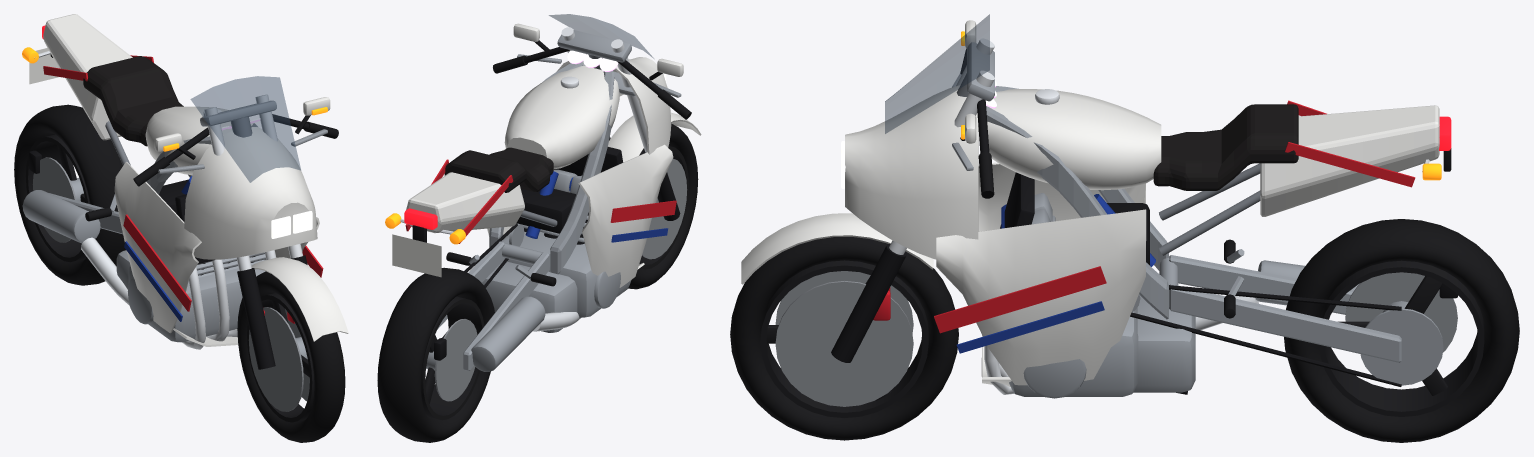
Rendered from neon-blade-900r.glb.
The picture shows the model from 3 angles, left to right: view 1: azimuth 30°, elevation 25°; view 2: azimuth 150°, elevation 25°; view 3: azimuth 270°, elevation 25°; orthographic projection. The views are drawn at different scales.
Parts seen in each view (by area): view 1: Bodywork, FrontForkMesh, Tire_R, Tire_F, Exhaust, Rim_F, Seat, Engine, Rim_R, FuelTank, Frame, Lights (+2 smaller); view 2: Bodywork, Tire_R, Engine, FuelTank, FrontForkMesh, Rim_R, Frame, SwingarmMesh, Exhaust, Seat, Rim_F, Tire_F (+2 smaller); view 3: Bodywork, Tire_R, Rim_F, SwingarmMesh, Tire_F, FuelTank, Engine, Rim_R, FrontForkMesh, Seat, Frame, Exhaust (+1 smaller).
Part boxes in pixels (bbox=[...]): Bodywork: bbox=[34, 14, 330, 346]; FrontForkMesh: bbox=[133, 94, 348, 369]; Tire_R: bbox=[14, 104, 125, 285]; Tire_F: bbox=[237, 271, 345, 442]; Exhaust: bbox=[22, 190, 276, 349]; Rim_F: bbox=[247, 292, 314, 422]; Seat: bbox=[83, 56, 183, 146]; Engine: bbox=[116, 179, 265, 342]; Rim_R: bbox=[25, 134, 89, 262]; FuelTank: bbox=[145, 106, 253, 175]; Frame: bbox=[85, 117, 257, 221]; Lights: bbox=[22, 25, 327, 238]; Bodywork: bbox=[400, 14, 683, 287]; Tire_R: bbox=[377, 267, 494, 442]; Engine: bbox=[482, 147, 631, 332]; FuelTank: bbox=[504, 65, 619, 169]; FrontForkMesh: bbox=[493, 27, 701, 220]; Rim_R: bbox=[421, 296, 484, 420]; Frame: bbox=[446, 54, 614, 286]; SwingarmMesh: bbox=[434, 223, 550, 370]; Exhaust: bbox=[471, 296, 580, 371]; Seat: bbox=[444, 147, 553, 192]; Rim_F: bbox=[639, 146, 688, 269]; Tire_F: bbox=[628, 123, 698, 289]; Bodywork: bbox=[845, 14, 1451, 386]; Tire_R: bbox=[1284, 219, 1519, 442]; Rim_F: bbox=[760, 260, 928, 417]; SwingarmMesh: bbox=[1130, 255, 1458, 386]; Tire_F: bbox=[730, 237, 958, 440]; FuelTank: bbox=[987, 89, 1161, 190]; Engine: bbox=[1000, 172, 1195, 398]; Rim_R: bbox=[1319, 260, 1484, 416]; FrontForkMesh: bbox=[741, 38, 994, 362]; Seat: bbox=[1153, 104, 1298, 190]; Frame: bbox=[956, 73, 1260, 394]; Exhaust: bbox=[984, 260, 1359, 394].
Bounding box in the file's own units: 0.7938 × 1.18 × 2.07.
